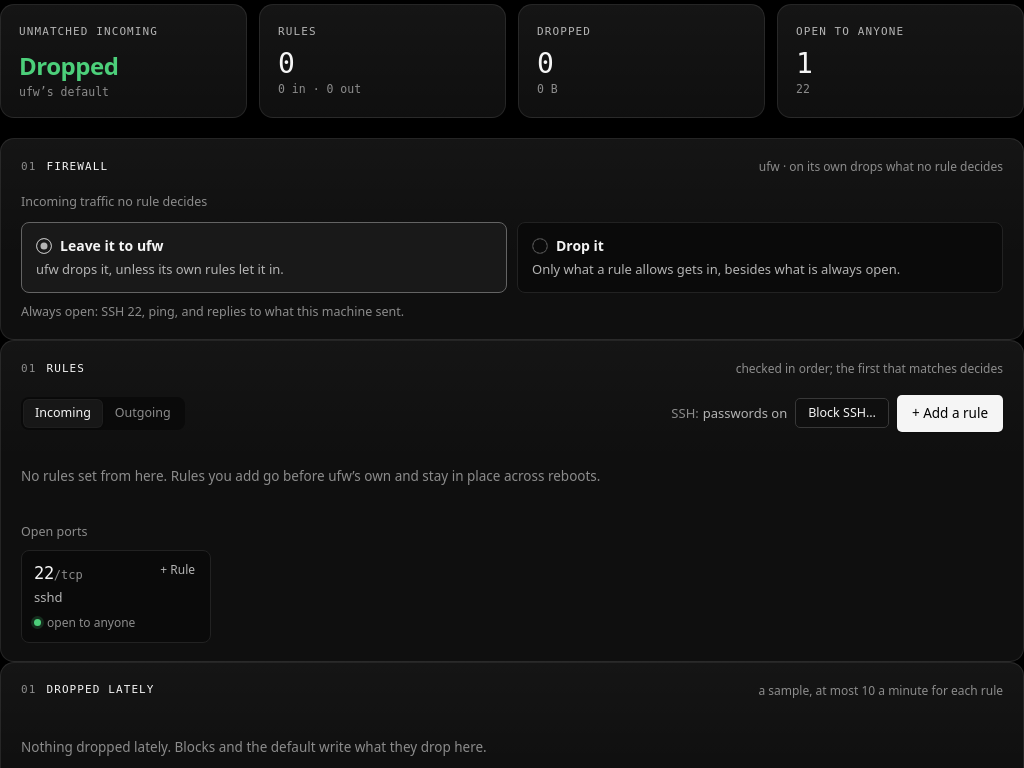
Test case: Firewall manager › Block SSH › lets only one address reach SSH: an allow from it, then a block for everyone on the SSH port
The width and height of the screenshot is (1024, 768).
expect the text "passwords on" is shown: met, box [703,404,787,423]
Click the button "Block SSH…": (842, 414) [795,398,889,428]
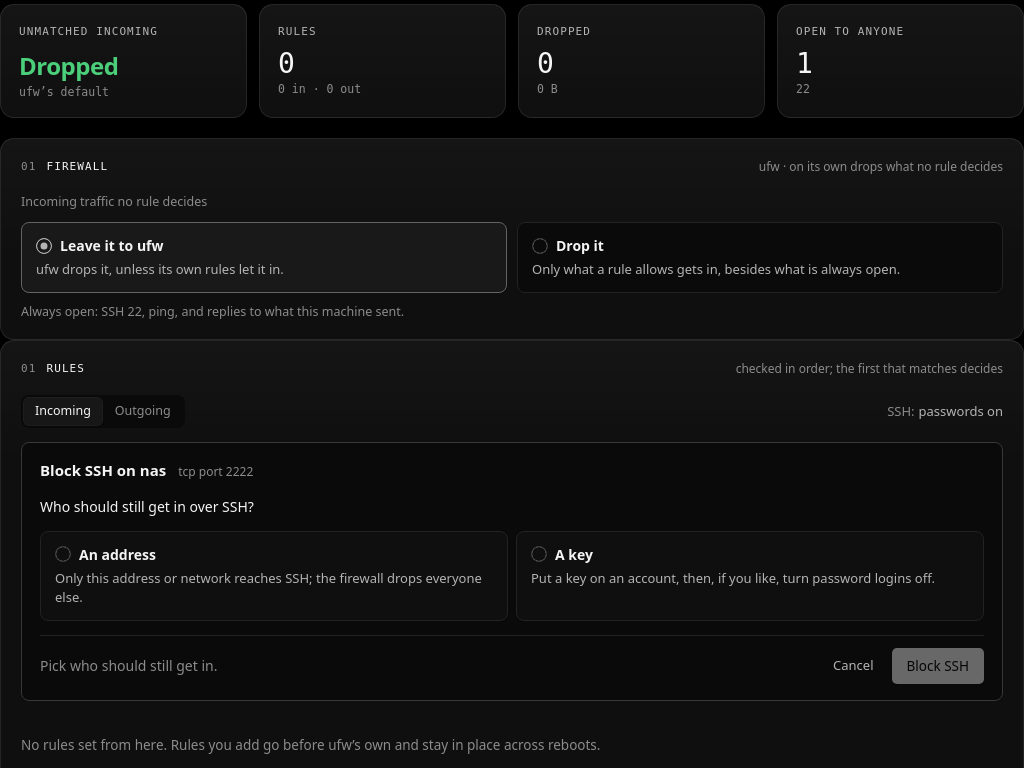
expect the text "Who should still get in over SSH?" is shown: met, box [40,497,254,516]
Click the radio button labelled "An address": (274, 576) [40,531,508,621]
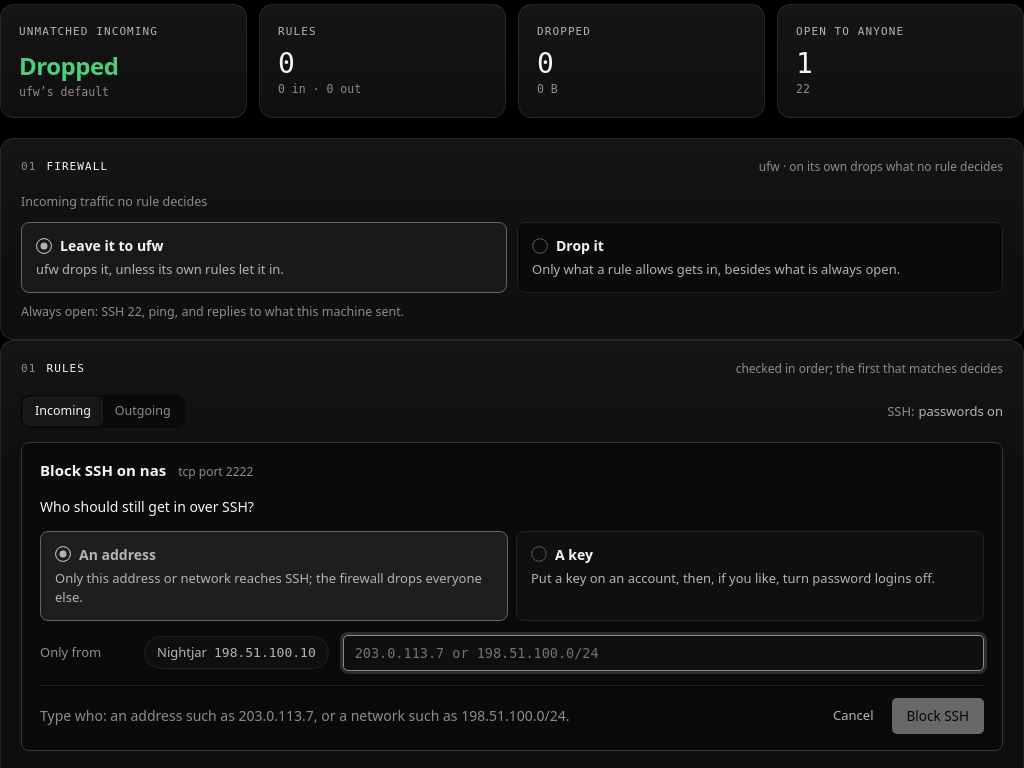
expect the button "Nightjar 198.51.100.10" is shown: met, box [144,636,329,670]
In the field named "Address or network allowed to reach SSH": (663, 653) [343,635,984,671], type "203.0.113.7"
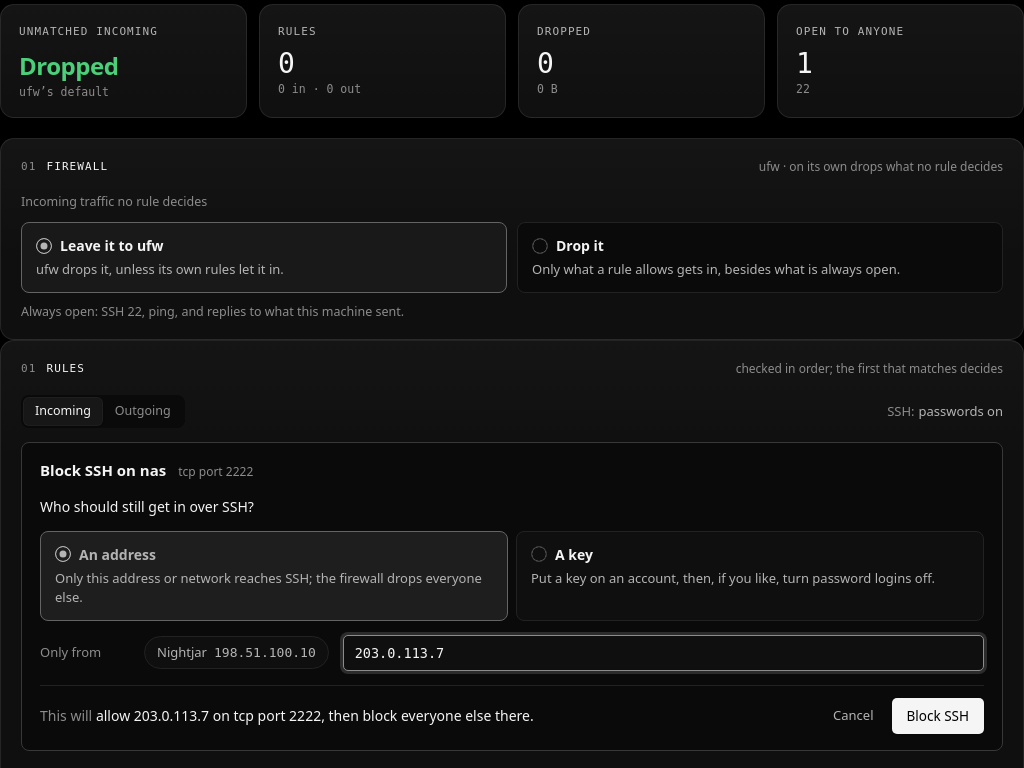
Click the button "Block SSH": (938, 716) [892,698,984,734]
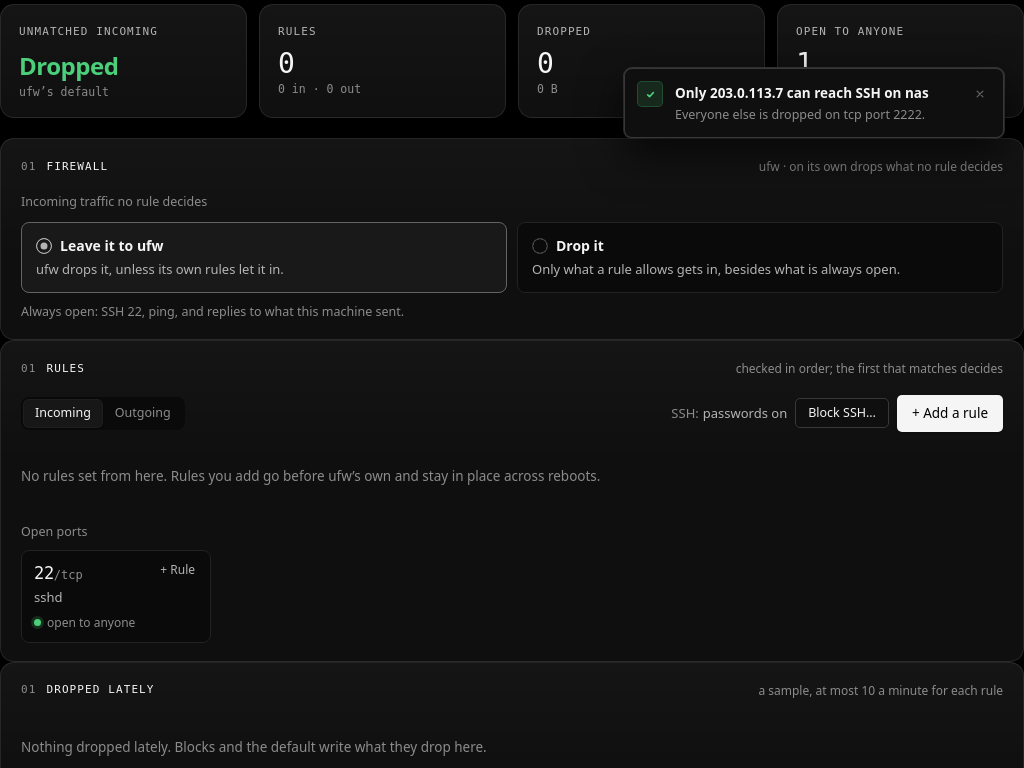
expect the text "Only 203.0.113.7 can reach SSH on nas" is shown: met, box [675,84,955,104]
